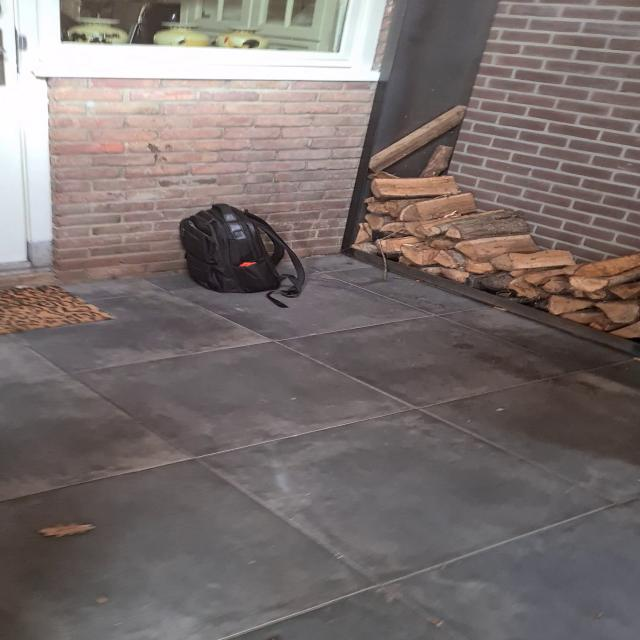backpack: (173, 202, 302, 297)
